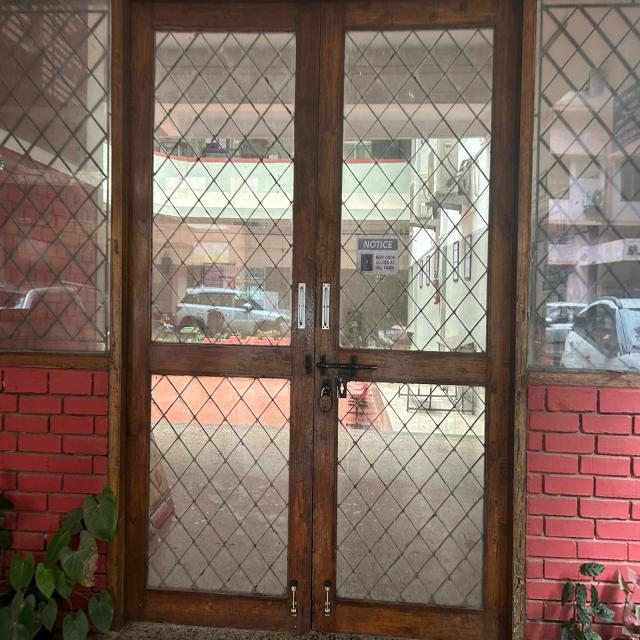Door ahead at: (128, 4, 507, 634)
